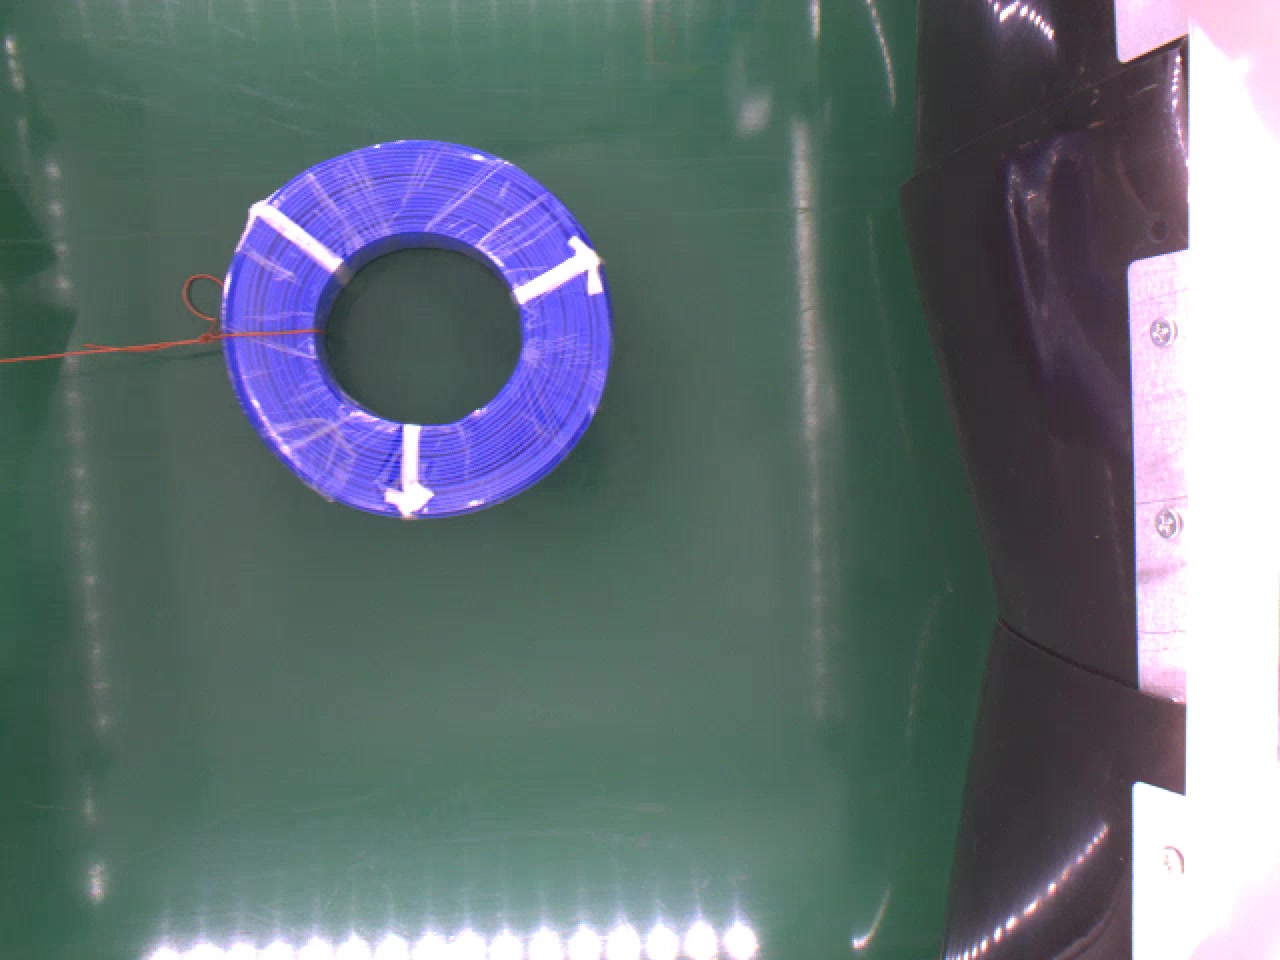blue: (221, 135, 612, 513)
